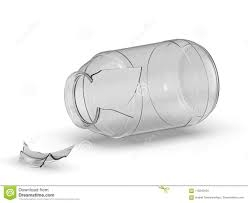glass: (59, 36, 228, 138), (14, 138, 79, 172)
